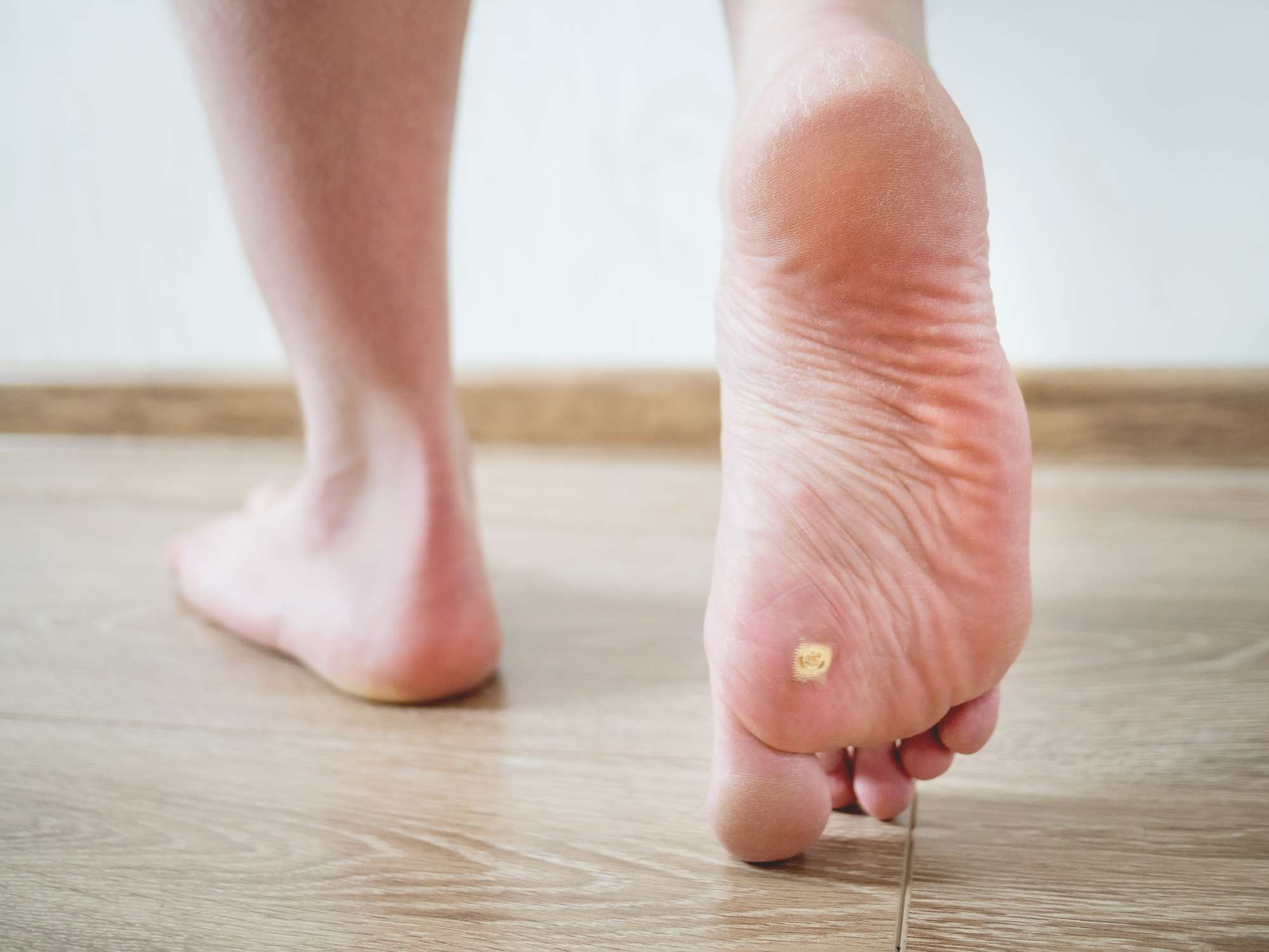Warts: (769, 623, 853, 699)
